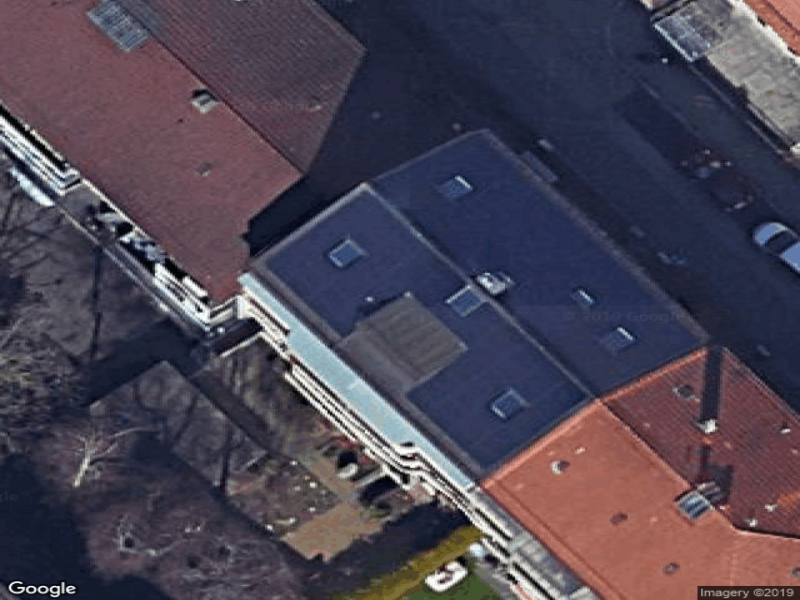pv: (265, 137, 701, 471)
